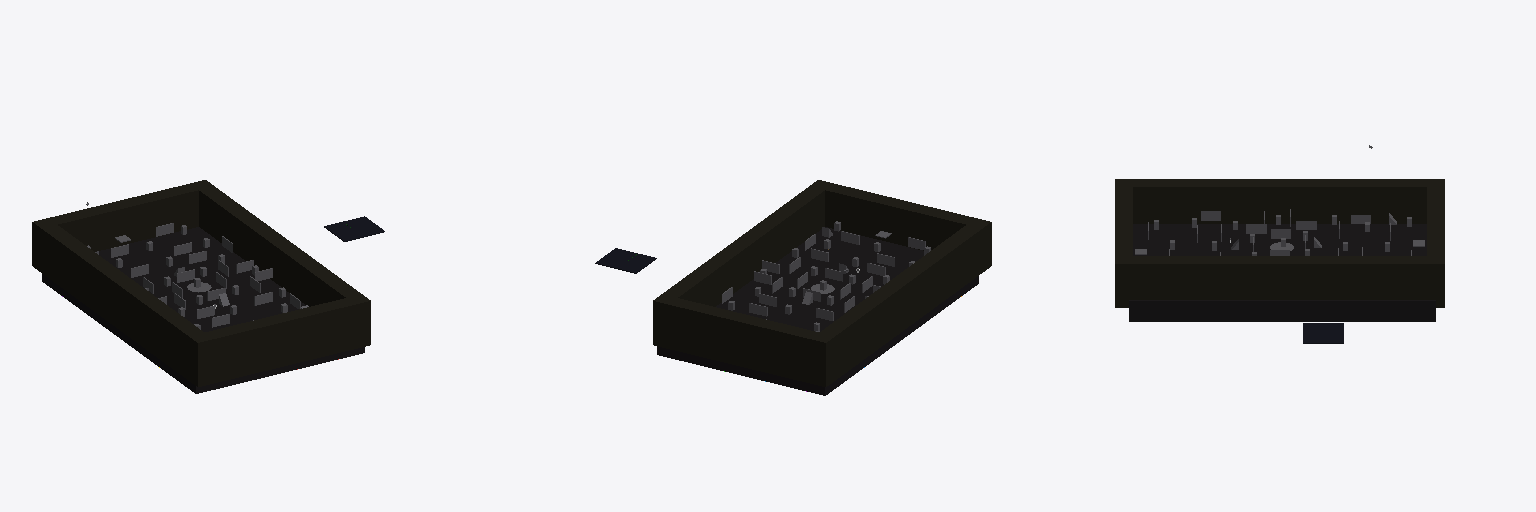
The picture shows the model from 3 angles: view 1: azimuth 30°, elevation 25°; view 2: azimuth 150°, elevation 25°; view 3: azimuth 270°, elevation 25°; orthographic projection.
Parts seen in each view (by area): view 1: Part41, Baseplate1, Part32, Part42, Part30, Part31, Part43, Part79; view 2: Baseplate1, Part32, Part41, Part30, Part42, Part43, Part31, Part79; view 3: Baseplate1, Part31, Part43, Part42, Part30, Part41, Part32, Part79.
Boxes of the visible parts, box(x1,y1,x2,y2) form: Part41: box(189, 294, 370, 386); Baseplate1: box(42, 227, 364, 393); Part32: box(32, 180, 213, 272); Part42: box(115, 279, 204, 380); Part30: box(42, 225, 130, 325); Part31: box(199, 186, 286, 280); Part43: box(273, 240, 360, 306); Part79: box(324, 216, 384, 241); Baseplate1: box(657, 227, 978, 395); Part32: box(653, 294, 834, 386); Part41: box(810, 180, 991, 272); Part30: box(819, 279, 908, 380); Part42: box(893, 225, 981, 325); Part43: box(737, 186, 824, 280); Part31: box(663, 240, 750, 306); Part79: box(595, 248, 656, 273); Baseplate1: box(1129, 224, 1435, 321); Part31: box(1280, 256, 1426, 299); Part43: box(1133, 256, 1279, 299); Part42: box(1133, 179, 1279, 223); Part30: box(1280, 179, 1426, 223); Part41: box(1115, 179, 1132, 307); Part32: box(1427, 179, 1444, 307); Part79: box(1303, 323, 1343, 343).
Size of the model in its own units: 320 by 108 by 326.
Materials: 41 (29 with a texture image).